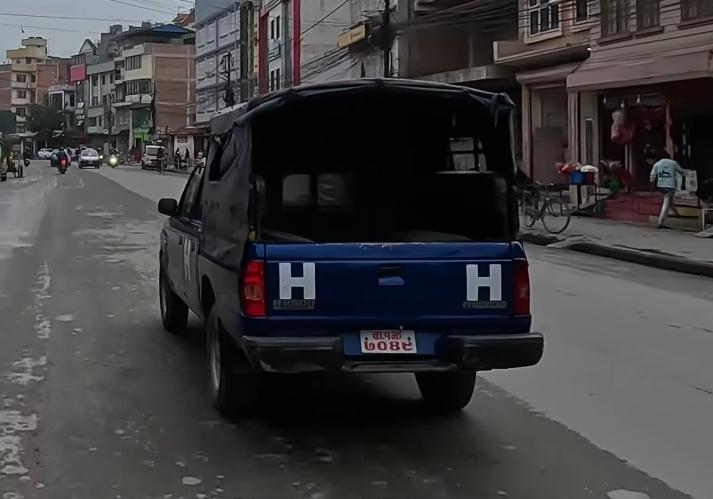police_vehicle: (151, 74, 546, 417)
